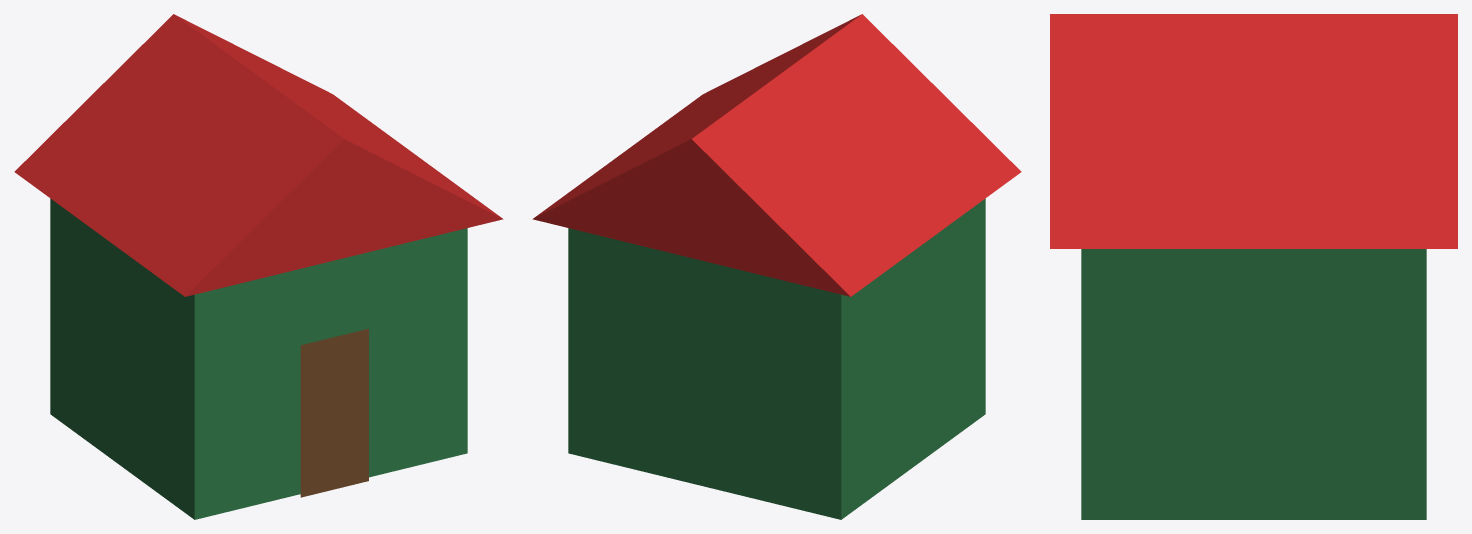
File: Casa.fbx
3 views of the same model, side by side, from view 1: azimuth 30°, elevation 25°; view 2: azimuth 150°, elevation 25°; view 3: azimuth 270°, elevation 25° (orthographic). The views are drawn at different scales.
Parts seen in each view (by area): view 1: Cuerpo, Techo, Puerta; view 2: Cuerpo, Techo; view 3: Techo, Cuerpo.
Boxes of the visible parts, x1,y1,x2,y2 form: Cuerpo: [50, 198, 467, 519]; Techo: [14, 14, 503, 296]; Puerta: [300, 328, 368, 497]; Cuerpo: [568, 198, 985, 519]; Techo: [532, 14, 1021, 296]; Techo: [1050, 14, 1457, 248]; Cuerpo: [1081, 249, 1426, 519].
Bounding box in the file's own units: 0.7 × 0.75 × 0.65.
